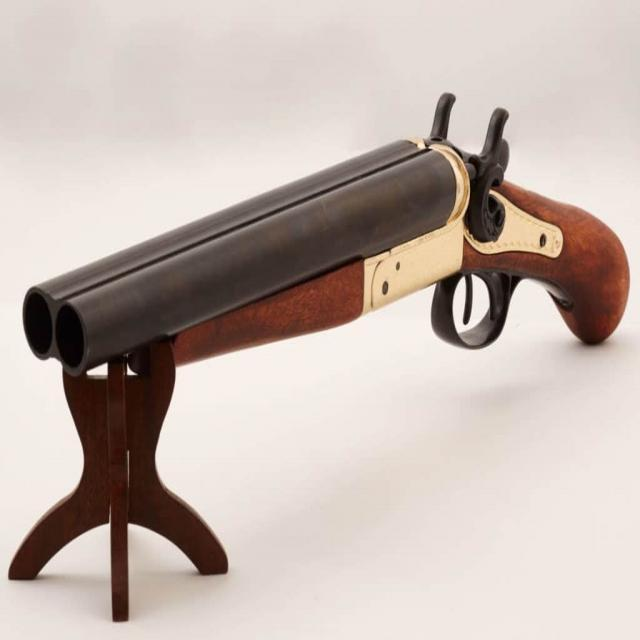shotgun: (11, 51, 630, 412)
